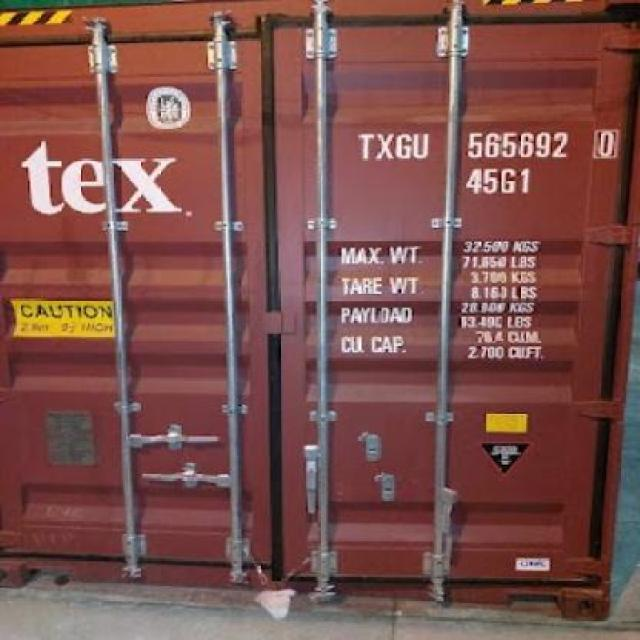ISO: (468, 163, 534, 196)
container_number: (354, 130, 626, 162)
